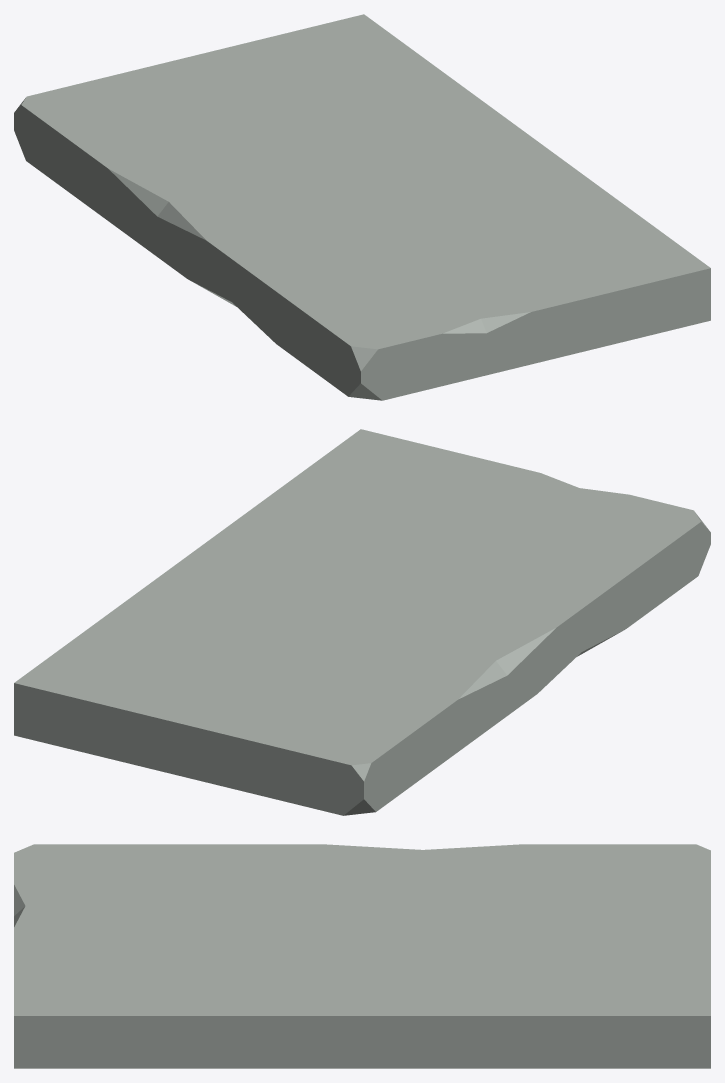
File: SM_Env_Misc_06.fbx
3 renders of one model, top to bottom at view 1: azimuth 30°, elevation 25°; view 2: azimuth 150°, elevation 25°; view 3: azimuth 270°, elevation 25°, orthographic.
Parts seen in each view (by area): view 1: SM_Env_Misc_06; view 2: SM_Env_Misc_06; view 3: SM_Env_Misc_06.
Boxes of the visible parts, left/top/right/bottom form: SM_Env_Misc_06: left=14, top=14, right=710, bottom=400; SM_Env_Misc_06: left=14, top=429, right=710, bottom=815; SM_Env_Misc_06: left=14, top=844, right=710, bottom=1068.
Size of the model in its own units: 45.59 by 6.53 by 78.24.
1 material, 1 textured.
